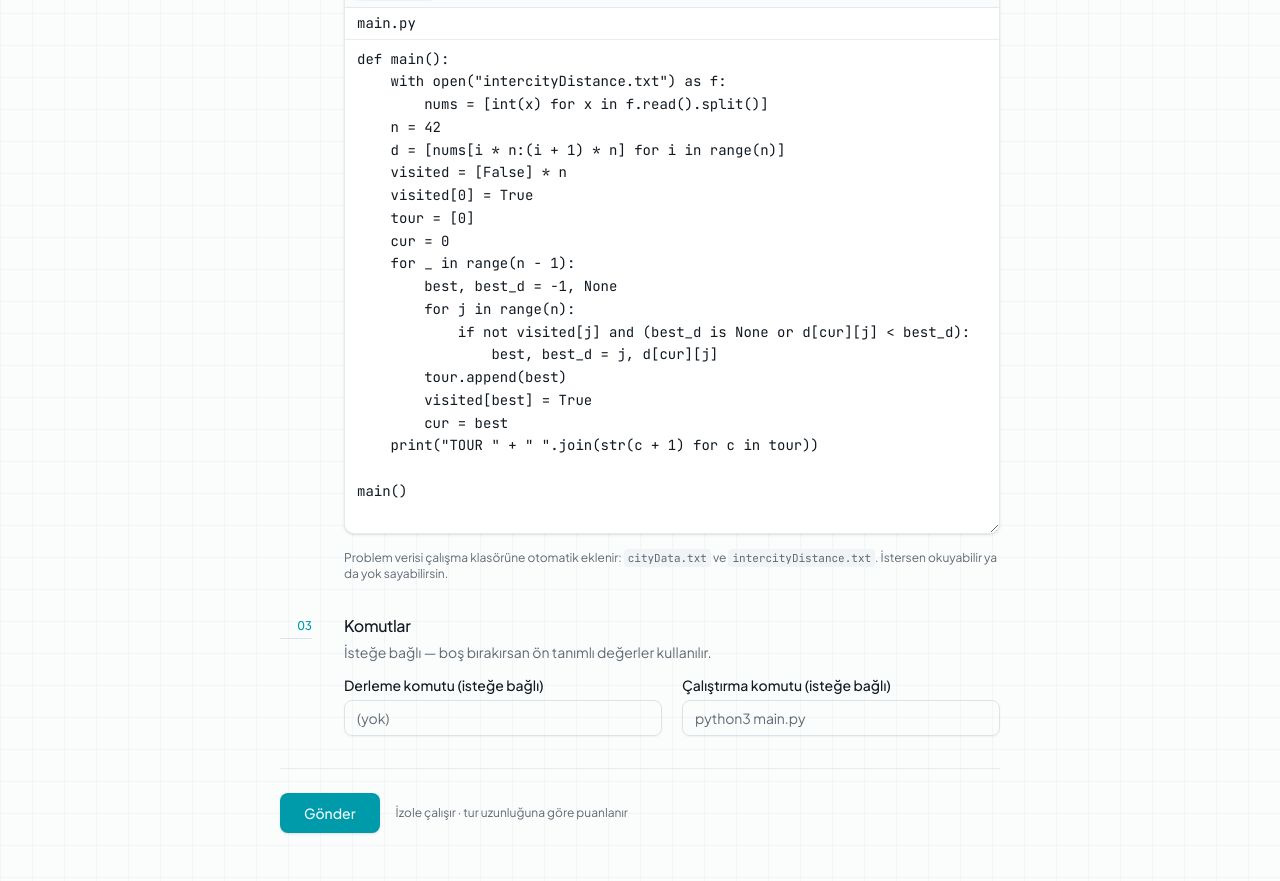
Scenario: SubmitPage › requires a handle
The image size is (1280, 881).
(page scrolled)
What coordinates should you click on to do the following:
click the button "Gönder"
I would click on:
 (330, 813)
Its box is [280,793,380,833].
(page scrolled)
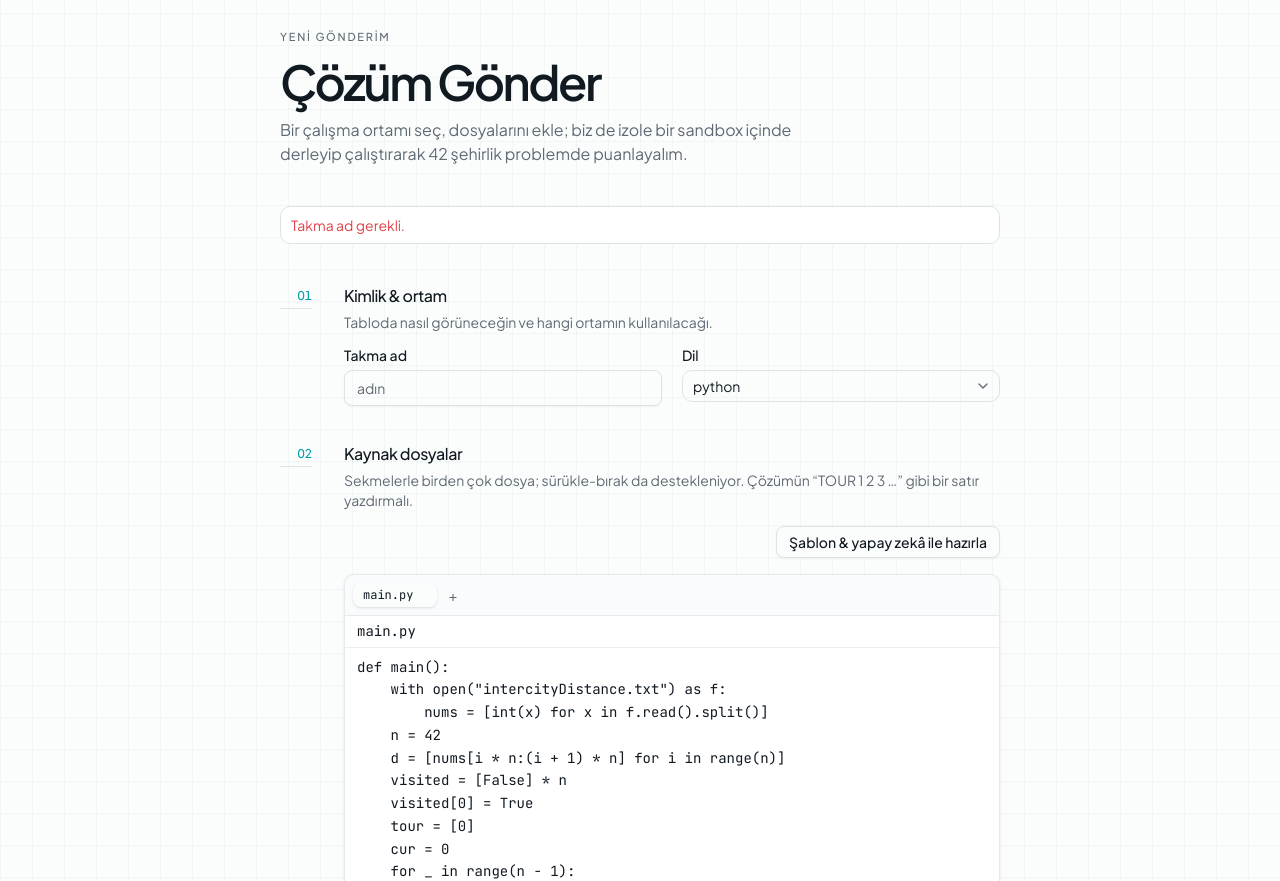
Now the text "Takma ad gerekli." is shown, box [291,216,405,234]
